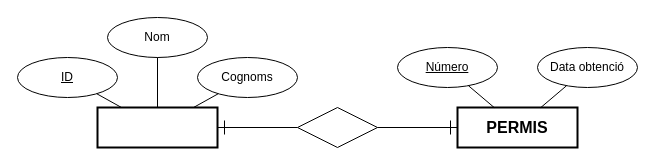
The diagram is 655 pixels wide and 166 high, and some of its shapes have lost their labels. Each missing label, with the centre of its shape:
CONDUCTOR: (x=157, y=127)
té: (x=337, y=127)
